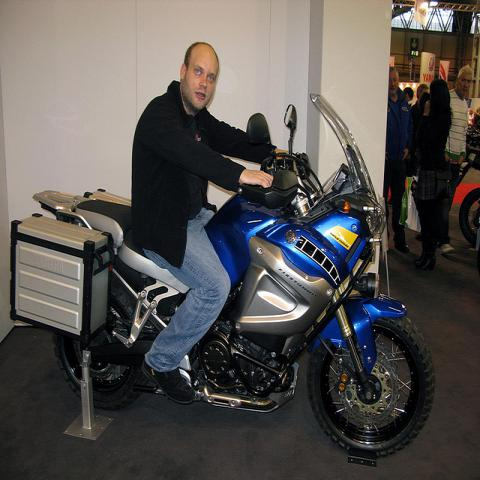motorcycle: (10, 96, 434, 463), (459, 187, 479, 245)
